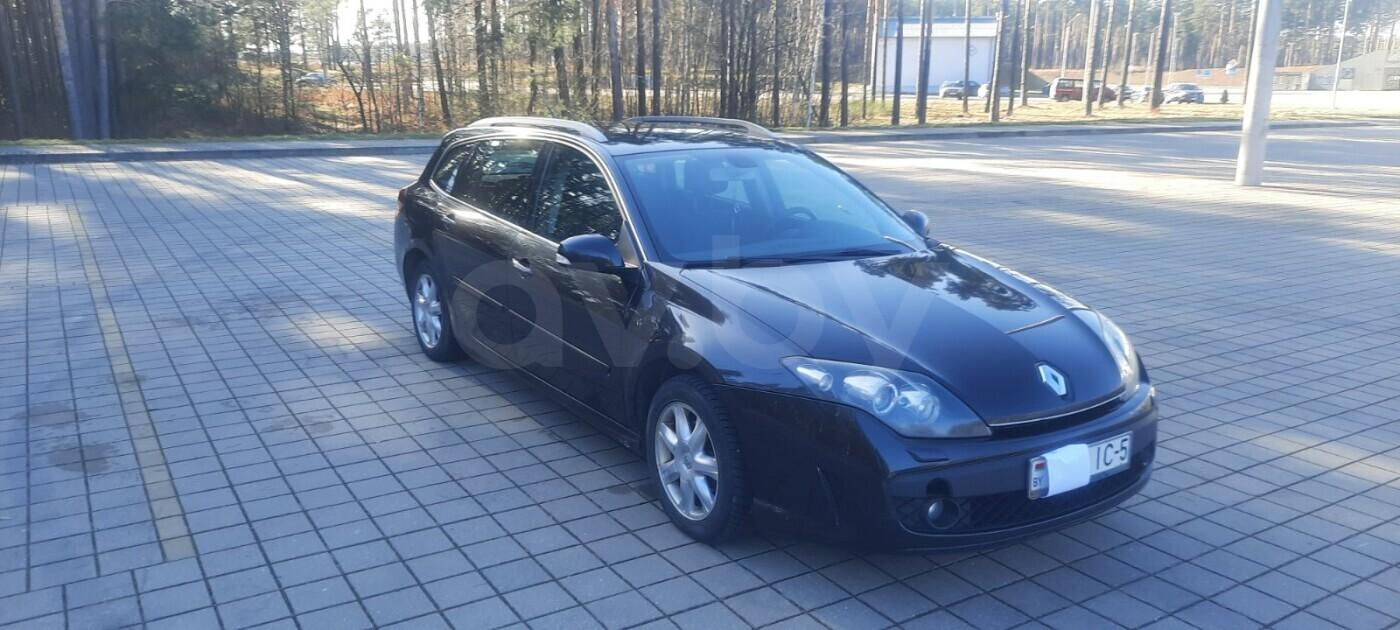Laguna_2007-2011: (393, 115, 1156, 548)
